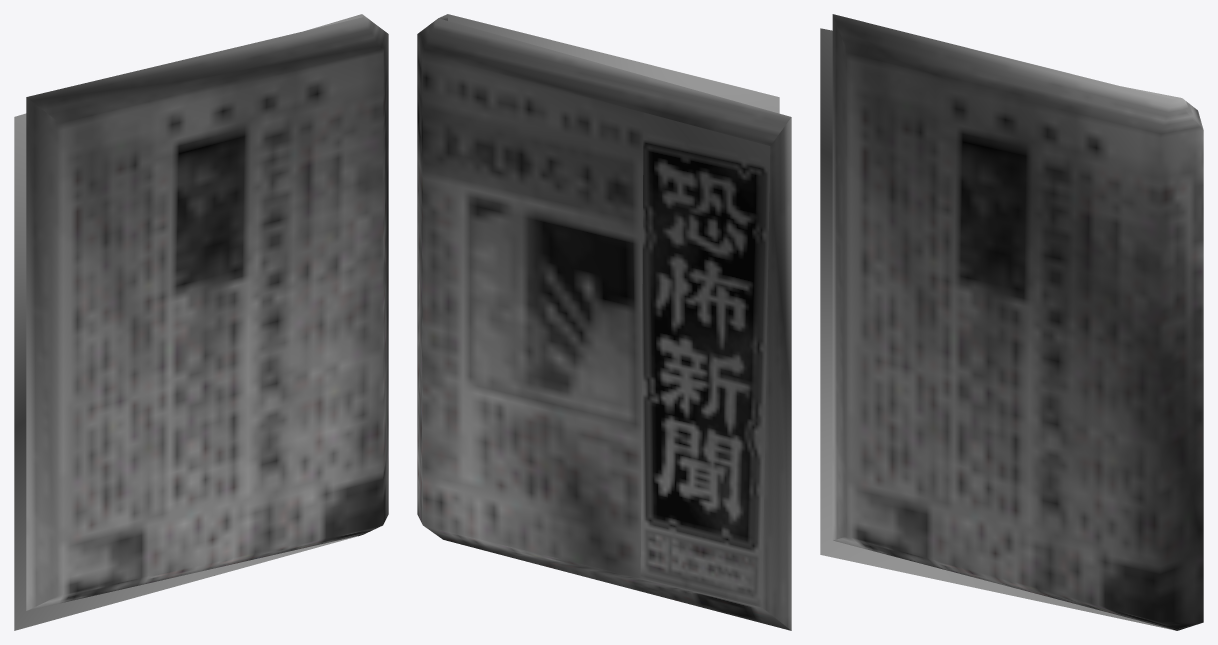
The model's file is static.ico.obj.
3 views of the same model, side by side, from view 1: azimuth 30°, elevation 25°; view 2: azimuth 150°, elevation 25°; view 3: azimuth 330°, elevation 25° (orthographic). The views are drawn at different scales.
Size of the model in its own units: 2.32 by 3.15 by 0.3999.
Materials: 1 (1 with a texture image).
